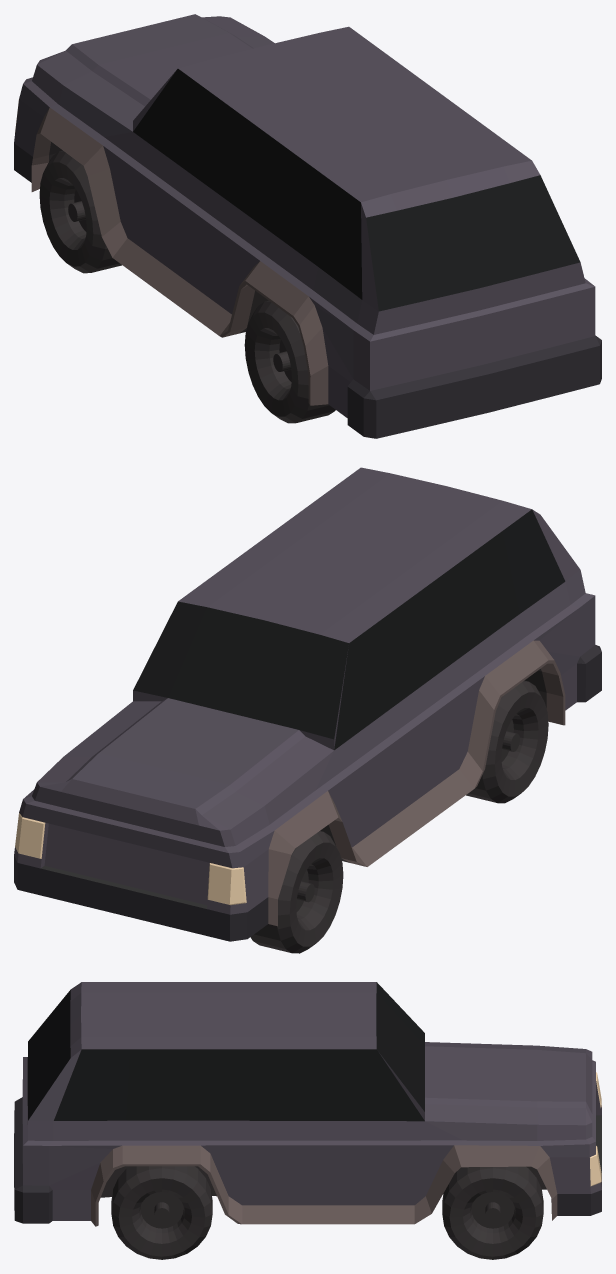
The picture shows the model from 3 angles, top to bottom: view 1: azimuth 30°, elevation 25°; view 2: azimuth 150°, elevation 25°; view 3: azimuth 270°, elevation 25°; orthographic projection. The views are drawn at different scales.
Parts seen in each view (by area): view 1: Cube; view 2: Cube; view 3: Cube.
Boxes of the visible parts, x1=… form: Cube: x1=14, y1=14, x2=601, y2=438; Cube: x1=14, y1=467, x2=601, y2=953; Cube: x1=14, y1=982, x2=601, y2=1259.
Size of the model in its own units: 212 by 197 by 524.
